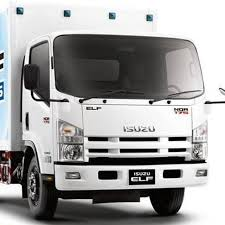truck: (17, 27, 208, 219)
